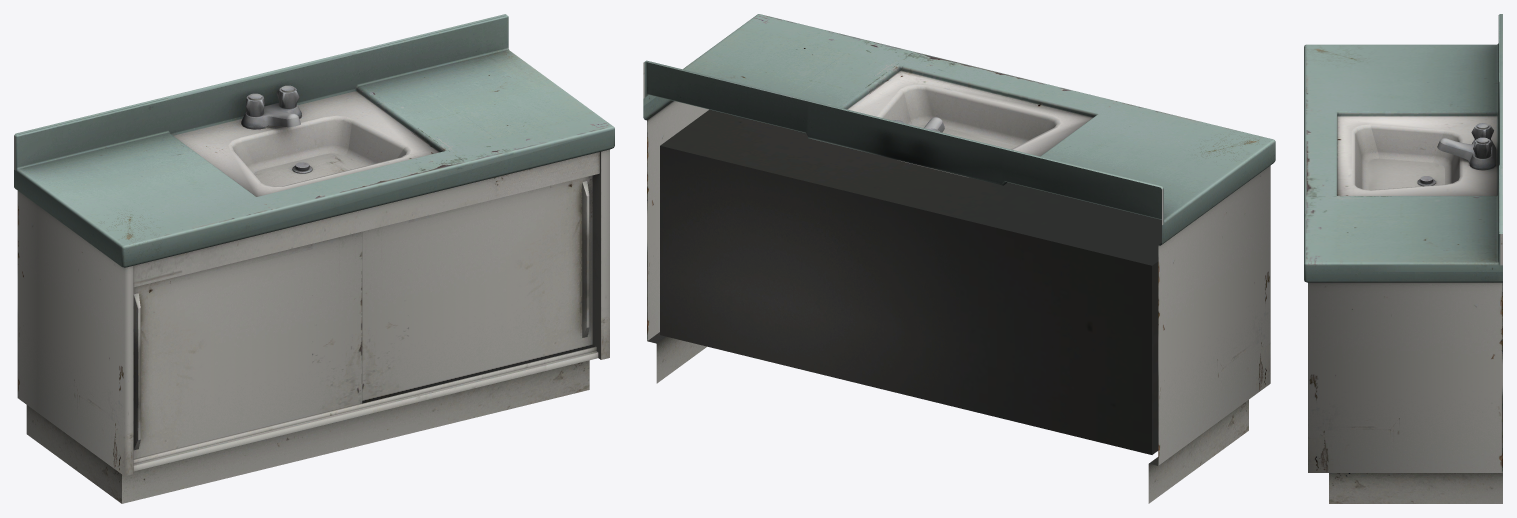
File: sink_with_vanity.obj
3 views of the same model, side by side, from view 1: azimuth 30°, elevation 25°; view 2: azimuth 150°, elevation 25°; view 3: azimuth 270°, elevation 25° (orthographic). The views are drawn at different scales.
Parts seen in each view (by area): view 1: Model001_Model001_5_cabinet and sink_1_0_0, Model001_Model001_5_door 2_1_0_0, Model001_Model001_5_door 1_1_0_0; view 2: Model001_Model001_5_cabinet and sink_1_0_0; view 3: Model001_Model001_5_cabinet and sink_1_0_0.
Part boxes in pixels (x1,y1,x2,y2): Model001_Model001_5_cabinet and sink_1_0_0: (14,14,614,503); Model001_Model001_5_door 2_1_0_0: (362,175,592,403); Model001_Model001_5_door 1_1_0_0: (133,231,362,459); Model001_Model001_5_cabinet and sink_1_0_0: (643,14,1275,503); Model001_Model001_5_cabinet and sink_1_0_0: (1304,14,1502,503).
Size of the model in its own units: 1.63 by 0.9589 by 0.6239.
